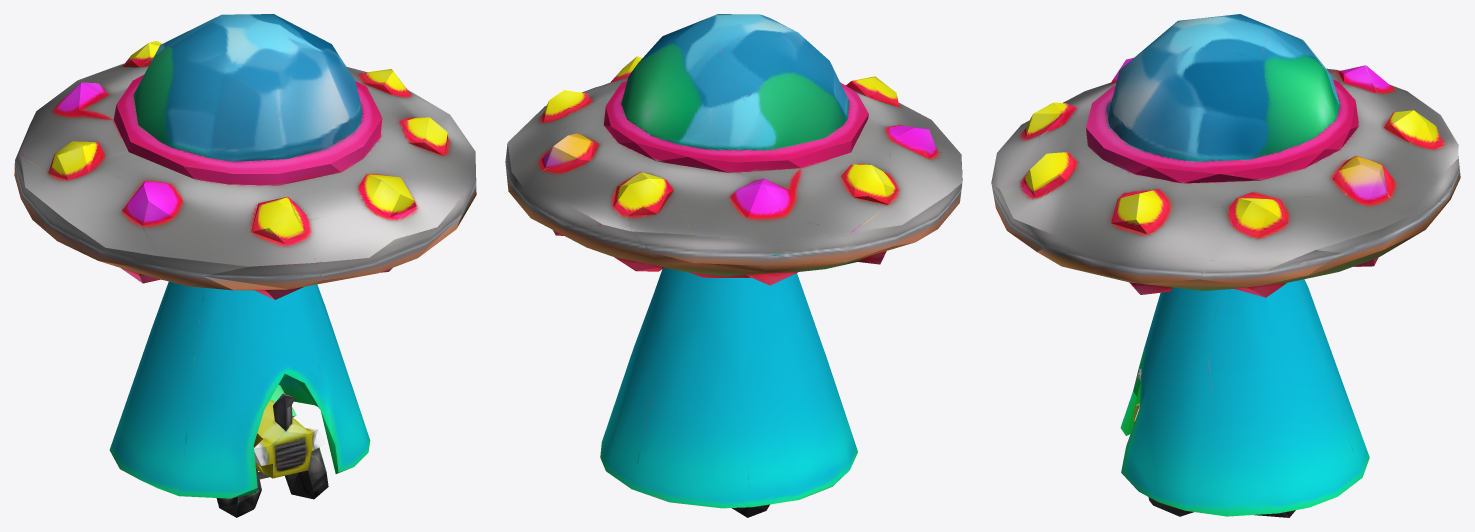
Rendered from Ufo.glb.
3 renders of one model, left to right at view 1: azimuth 30°, elevation 25°; view 2: azimuth 150°, elevation 25°; view 3: azimuth 270°, elevation 25°, orthographic. The views are drawn at different scales.
Visible parts, largest first — view 1: geometry_0; view 2: geometry_0; view 3: geometry_0.
Boxes of the visible parts, x1,y1,x2,y2 form: geometry_0: (14,14,476,517); geometry_0: (505,14,962,517); geometry_0: (991,14,1460,517).
Bounding box in the file's own units: 0.4319 × 0.48 × 0.4328.
1 material, 1 textured.
